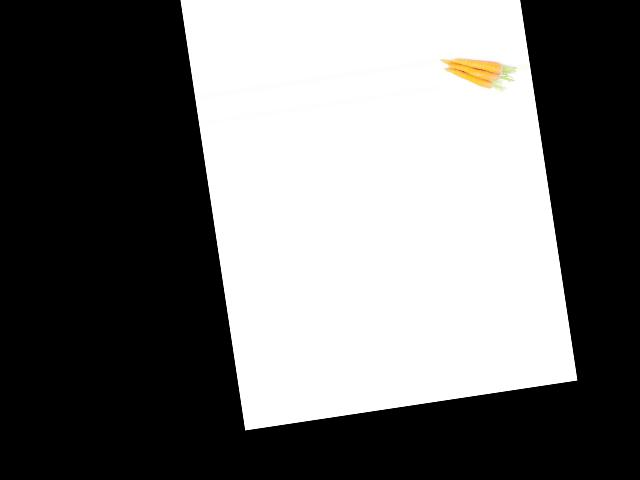carrot: (451, 48, 508, 79)
